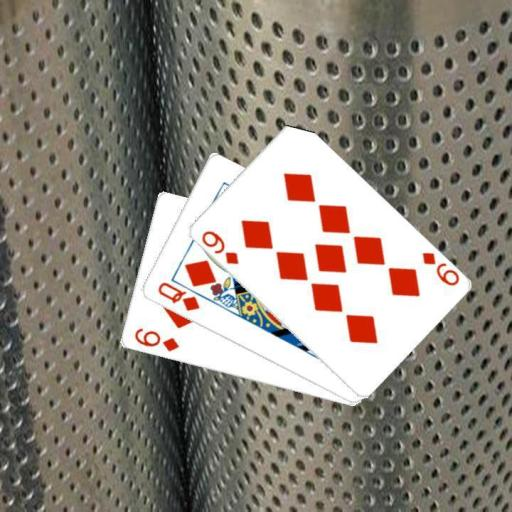card-corner: (418, 249, 461, 287), (154, 279, 202, 313), (198, 228, 240, 266), (131, 325, 180, 353)
